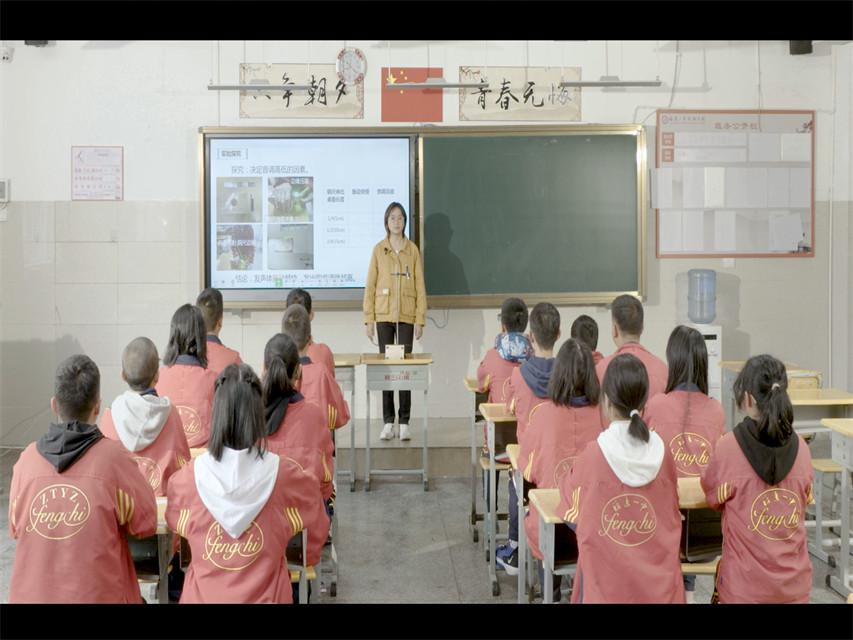listen: (723, 351, 809, 534), (197, 363, 276, 548), (37, 350, 117, 528), (590, 353, 674, 511), (662, 322, 721, 450), (110, 332, 171, 454), (551, 344, 601, 469), (259, 333, 308, 456), (517, 291, 568, 403), (599, 292, 660, 380), (162, 310, 211, 417), (486, 293, 531, 380)
